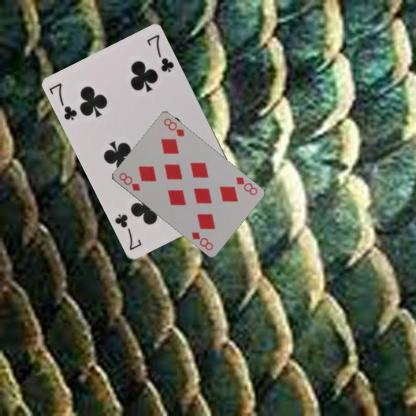7c: (46, 80, 80, 122)
8d: (232, 174, 258, 197), (116, 170, 141, 192)
